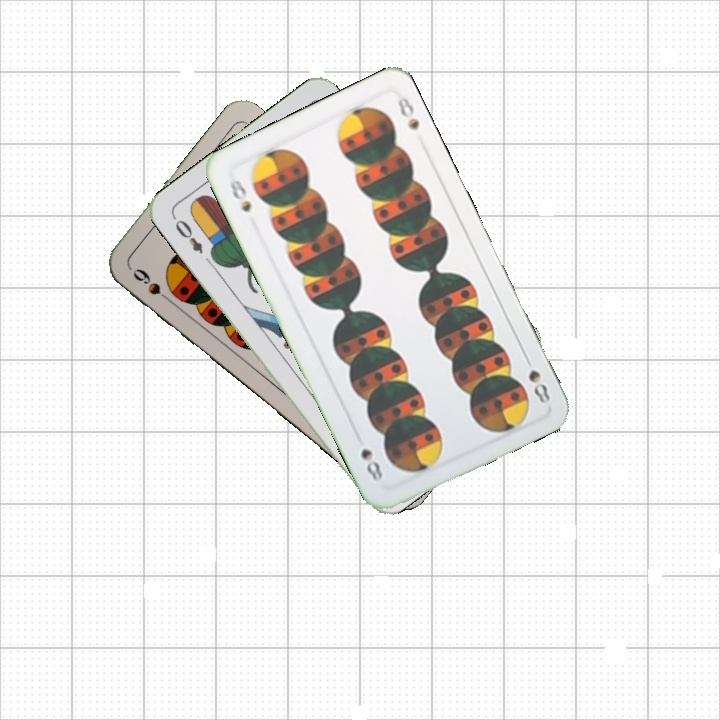EO: (168, 212, 206, 257)
S8: (519, 350, 553, 406), (225, 173, 254, 216)
S9: (128, 264, 176, 307)
